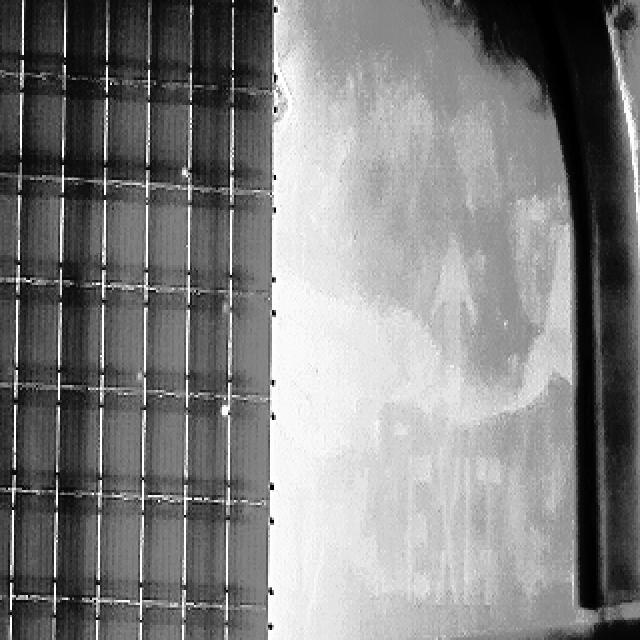Hotspots: (176, 155, 192, 180), (219, 397, 233, 421)
PV-modules: (21, 183, 74, 288), (178, 0, 235, 89), (224, 397, 270, 506), (10, 492, 55, 602), (94, 497, 139, 605), (226, 290, 271, 397), (54, 389, 99, 496), (49, 0, 108, 80), (96, 391, 140, 498), (141, 291, 185, 397), (188, 288, 231, 396), (57, 287, 102, 390), (138, 501, 182, 606), (140, 395, 184, 500), (60, 82, 105, 184), (18, 284, 62, 388), (105, 182, 149, 285), (188, 89, 232, 192), (59, 181, 103, 284), (185, 503, 228, 608), (16, 387, 59, 492), (24, 80, 68, 182), (102, 290, 146, 392), (54, 498, 97, 602), (229, 504, 272, 608), (189, 190, 232, 294), (234, 192, 276, 296), (188, 396, 229, 502), (144, 185, 186, 288), (234, 92, 276, 194), (106, 84, 148, 186), (147, 88, 188, 189), (235, 0, 277, 91), (153, 0, 196, 83), (106, 0, 148, 82), (24, 0, 68, 72), (6, 597, 50, 640), (0, 175, 18, 280), (0, 280, 18, 385), (0, 73, 18, 175), (0, 382, 16, 488), (52, 602, 96, 640), (136, 602, 180, 640), (92, 605, 136, 640), (0, 0, 22, 70), (220, 610, 266, 640), (184, 610, 226, 640), (0, 492, 8, 600), (0, 595, 10, 640)
